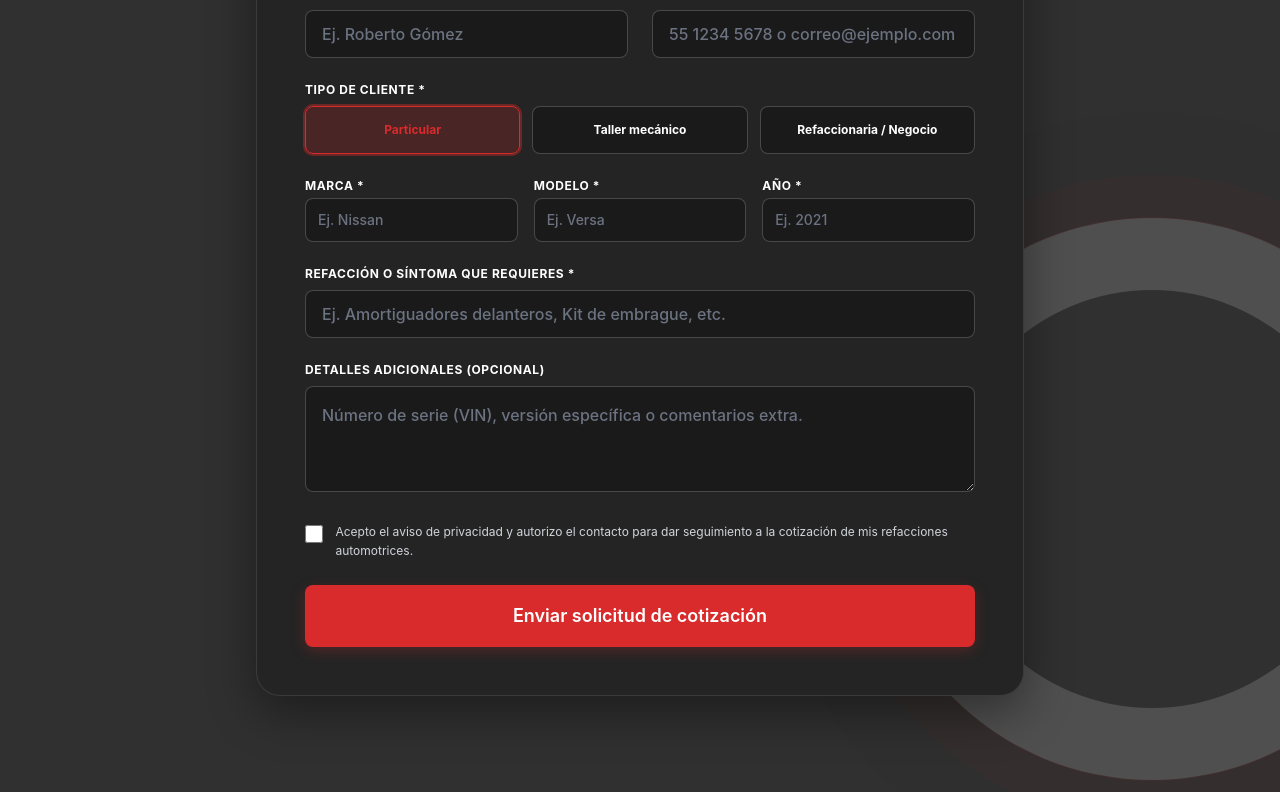
Test: VECTOR Landing Page Component Suite › validates quote form inputs and displays spanish validation messages
(page scrolled)
Click the button "Enviar solicitud de cotización" at (640, 616), box [305,585,975,647]
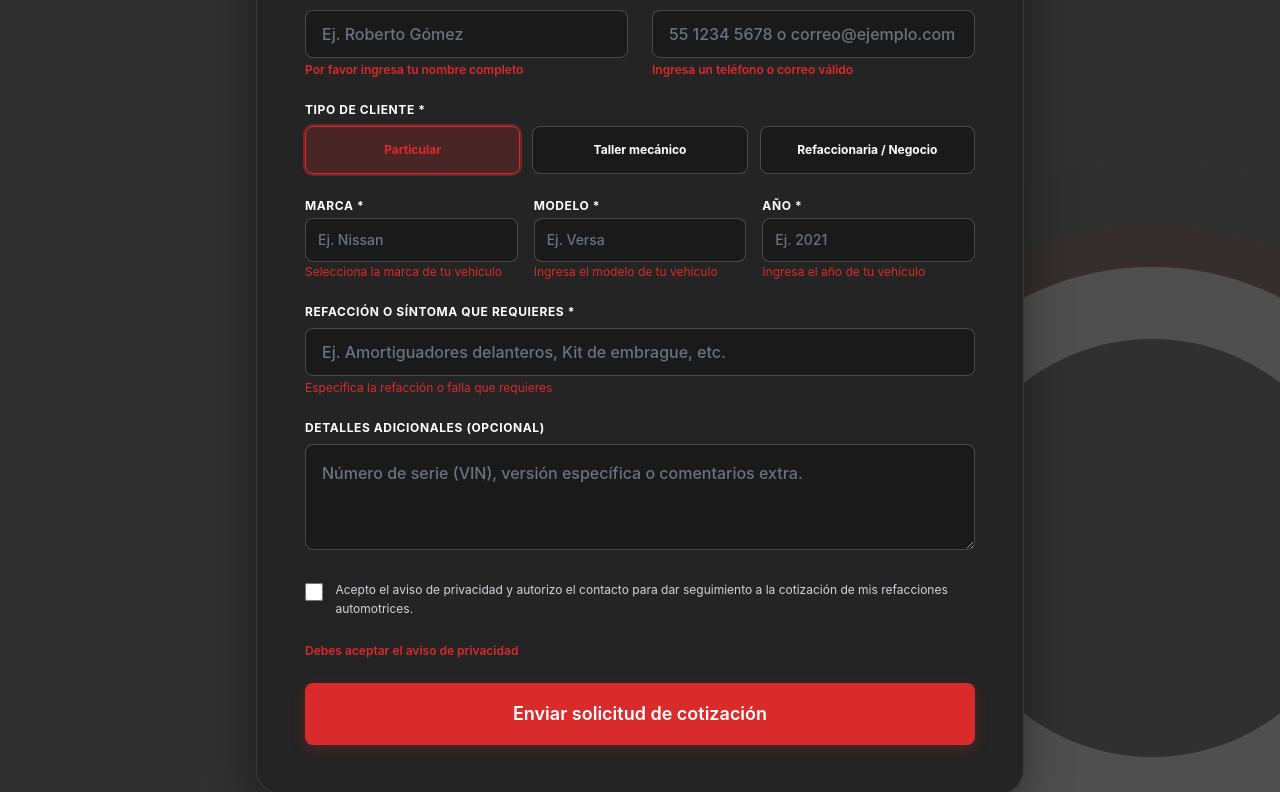
Expected: the text "Por favor ingresa tu nombre completo" is shown, [305,62,523,77]
Expected: the text "Ingresa un teléfono o correo válido" is shown, [652,62,853,77]
Expected: the text "Debes aceptar el aviso de privacidad" is shown, [305,643,518,658]
